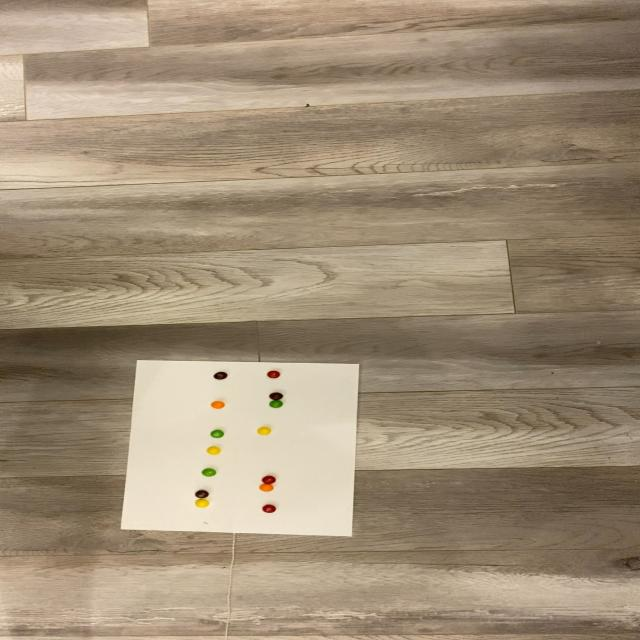smartie: (206, 446, 222, 456), (256, 426, 271, 436), (260, 504, 275, 514), (195, 490, 209, 500), (213, 371, 228, 380), (210, 401, 225, 410), (268, 400, 283, 409), (202, 468, 217, 477), (260, 483, 275, 492), (196, 499, 211, 508), (269, 392, 283, 401), (266, 371, 280, 380), (261, 476, 275, 485), (210, 430, 224, 438)
